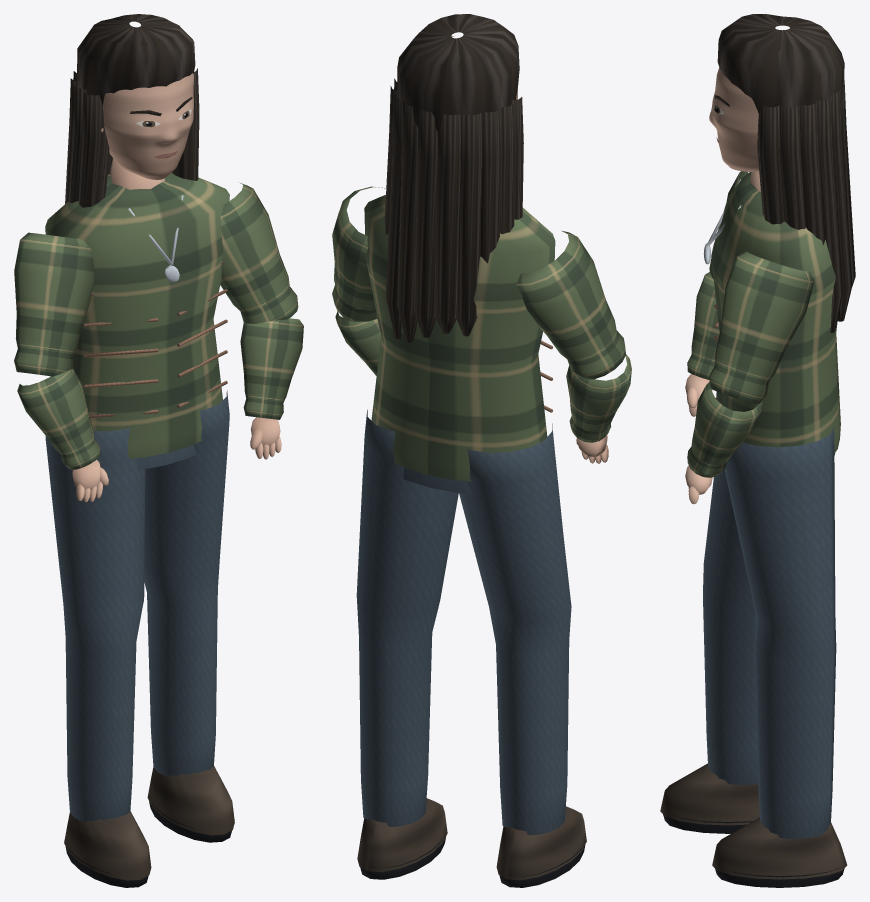
File: HERO-10_dina-standing.glb
The picture shows the model from 3 angles, left to right: view 1: azimuth 30°, elevation 25°; view 2: azimuth 150°, elevation 25°; view 3: azimuth 270°, elevation 25°; orthographic projection. The views are drawn at different scales.
Parts seen in each view (by area): view 1: dina · soles; view 2: dina · soles; view 3: dina · soles.
Boxes of the visible parts, left/top/right/bottom form: dina · soles: left=14, top=14, right=303, bottom=887; dina · soles: left=332, top=14, right=631, bottom=887; dina · soles: left=660, top=14, right=855, bottom=887.
Bounding box in the file's own units: 0.6113 × 1.69 × 0.3651.
Materials: 2 (2 with a texture image).
